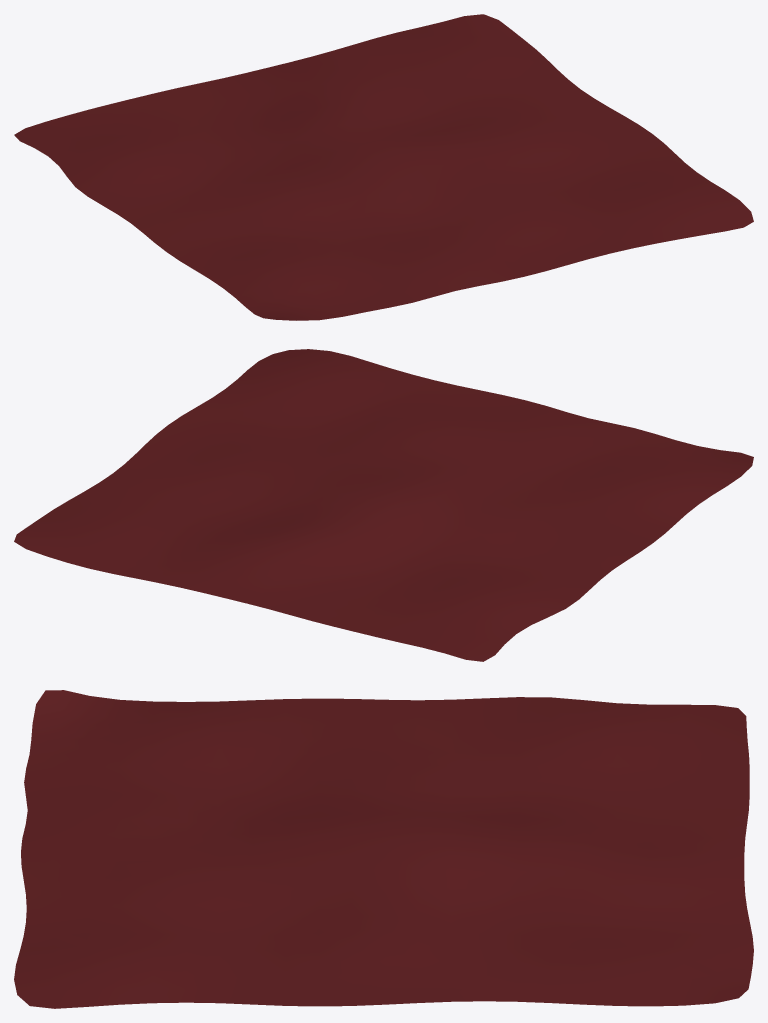
Rendered from Blanket.fbx.
3 renders of one model, top to bottom at view 1: azimuth 30°, elevation 25°; view 2: azimuth 150°, elevation 25°; view 3: azimuth 270°, elevation 25°, orthographic. The views are drawn at different scales.
Visible parts, largest first — view 1: Blanket; view 2: Blanket; view 3: Blanket.
Part boxes in pixels (x1,y1,x2,y2): Blanket: [14, 14, 753, 320]; Blanket: [14, 349, 753, 661]; Blanket: [14, 690, 753, 1008].
Size of the model in its own units: 311 by 9.58 by 315.
